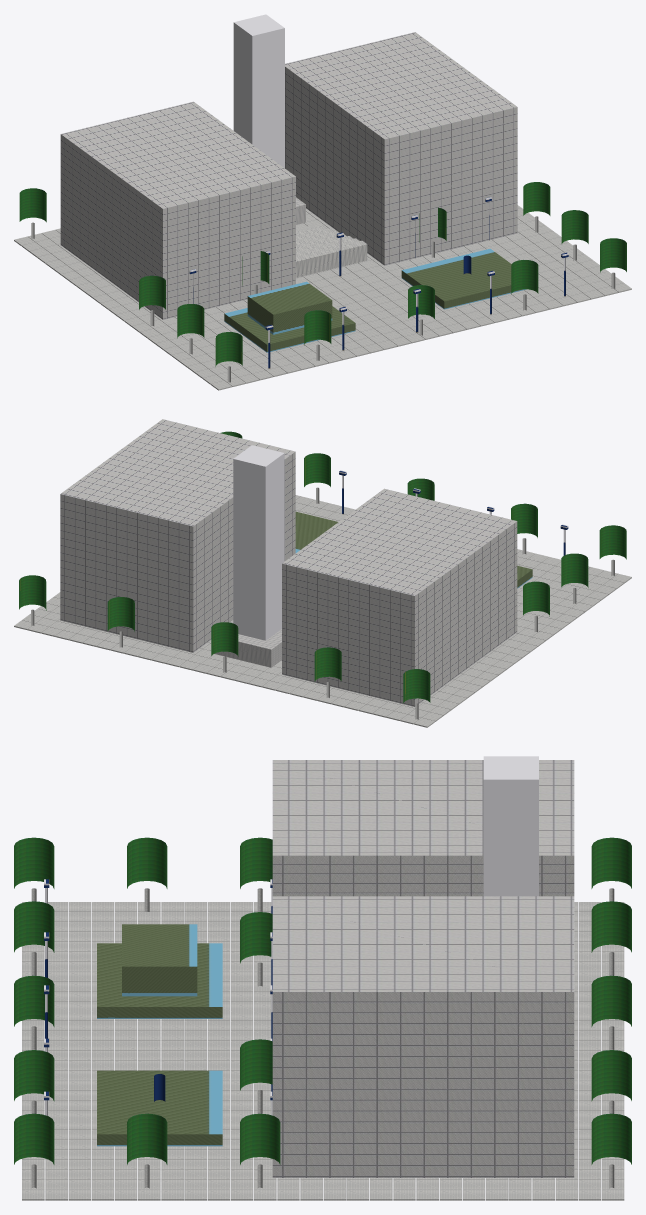
3 renders of one model, top to bottom at view 1: azimuth 30°, elevation 25°; view 2: azimuth 150°, elevation 25°; view 3: azimuth 270°, elevation 25°, orthographic. The views are drawn at different scales.
Parts seen in each view (by area): view 1: 28185_B43_Incheon_Landing_Memorial_Hall; view 2: 28185_B43_Incheon_Landing_Memorial_Hall; view 3: 28185_B43_Incheon_Landing_Memorial_Hall.
Part boxes in pixels (left/top/right/bottom): 28185_B43_Incheon_Landing_Memorial_Hall: left=14, top=14, right=631, bottom=390; 28185_B43_Incheon_Landing_Memorial_Hall: left=14, top=419, right=631, bottom=727; 28185_B43_Incheon_Landing_Memorial_Hall: left=14, top=756, right=631, bottom=1200.
Bounding box in the file's own units: 55.95 × 25 × 49.2.
1 material, 1 textured.
